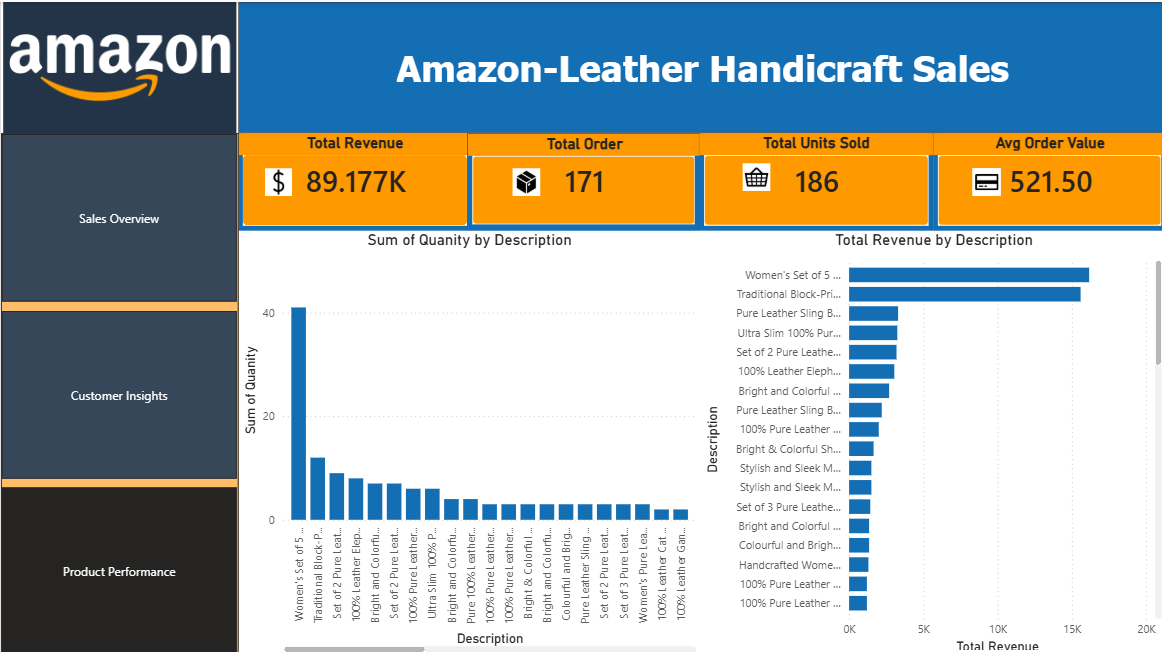

What the dashboard file says about the page in this screenshot:
{"tool":"powerbi","page":{"name":"Product Performance","canvas":[1280,720],"ordinal":2},"visuals":[{"type":"shape","box":[260.4,0,1019.6,144.1],"z":0},{"type":"image","box":[0,0,260.7,144.1],"z":1000},{"type":"cardVisual","title":"Total Revenue","fields":{"Data":["Sheet1.Total Revenue"]},"box":[260.7,144.1,256.6,107],"z":2000},{"type":"cardVisual","title":"Total Order","fields":{"Data":["Sheet1.Total order"]},"box":[511.8,144.1,256.6,107],"z":3000},{"type":"cardVisual","title":"Total Units Sold","fields":{"Data":["Sheet1.Total Units sold"]},"box":[767.1,144.1,256.6,107],"z":4000},{"type":"cardVisual","title":"Avg Order Value","fields":{"Data":["Sheet1.Average Order Value"]},"box":[1023.4,144.1,256.6,107],"z":5000},{"type":"clusteredColumnChart","fields":{"Category":["Sheet1.Description"],"Y":["Sum(Sheet1.Quanity)"]},"box":[260.7,251.1,507.7,469.3],"z":6000},{"type":"pageNavigator","box":[0,143.7,260.7,576.3],"z":7000},{"type":"clusteredBarChart","fields":{"Category":["Sheet1.Description"],"Y":["Sheet1.Total Revenue"]},"box":[768.4,251.1,511.8,469.3],"z":8000},{"type":"image","box":[554.4,182.5,45.3,30.2],"z":9000},{"type":"image","box":[791.8,177,75.5,30.2],"z":10000},{"type":"image","box":[1066.2,182.5,31.6,30.2],"z":11000},{"type":"image","box":[273.1,182.5,63.1,30.2],"z":12000}]}

Visuals, with their boxes in screenshot pixels (x1, y1, x2, y2), scaled from the page's 1280x720 canvas onto the 1162x652 screenshot:
shape: 236,0,1161,130
image: 0,0,237,130
"Total Revenue" cardVisual: 237,130,470,227
"Total Order" cardVisual: 465,130,698,227
"Total Units Sold" cardVisual: 696,130,929,227
"Avg Order Value" cardVisual: 929,130,1161,227
clusteredColumnChart - Sheet1.Description x Sum(Sheet1.Quanity): 237,227,698,651
pageNavigator: 0,130,237,651
clusteredBarChart - Sheet1.Description x Sheet1.Total Revenue: 698,227,1161,651
image: 503,165,544,193
image: 719,160,787,188
image: 968,165,997,193
image: 248,165,305,193
